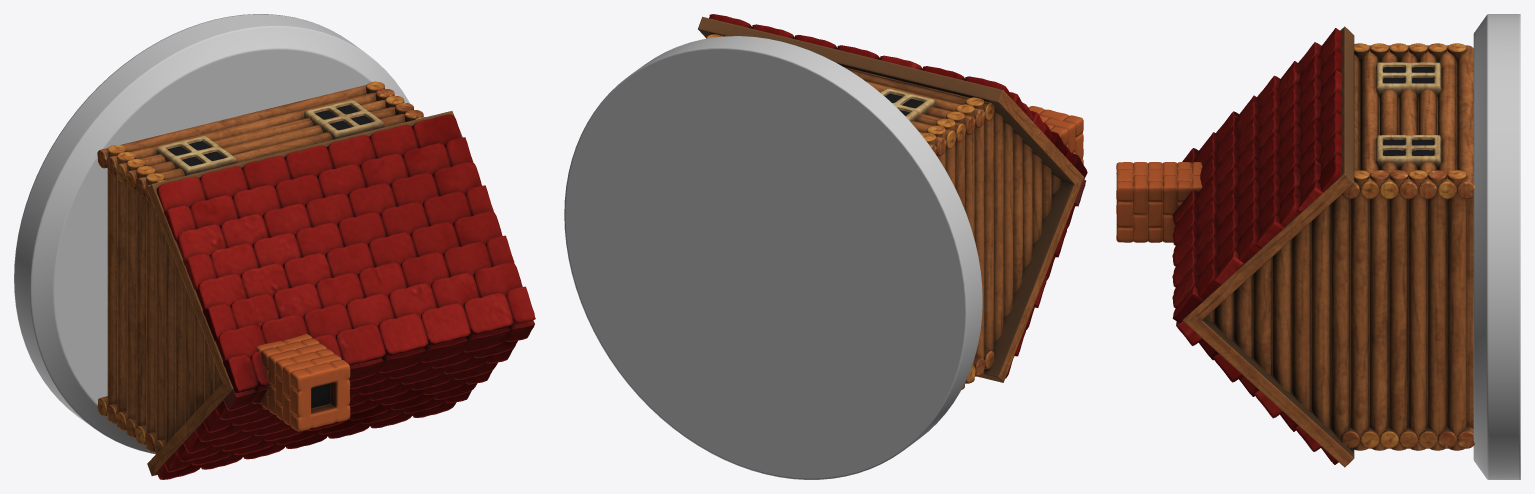
The model's file is 20958_Log_Cabin_v1_NEW.obj.
3 renders of one model, left to right at view 1: azimuth 30°, elevation 25°; view 2: azimuth 150°, elevation 25°; view 3: azimuth 270°, elevation 25°, orthographic.
Visible parts, largest first — view 1: 20958_Log_Cabin_v1; view 2: 20958_Log_Cabin_v1; view 3: 20958_Log_Cabin_v1.
Part boxes in pixels (x1=…): 20958_Log_Cabin_v1: x1=14, y1=14, x2=535, y2=479; 20958_Log_Cabin_v1: x1=564, y1=14, x2=1087, y2=479; 20958_Log_Cabin_v1: x1=1116, y1=14, x2=1520, y2=479.
Size of the model in its own units: 9.91 by 9.91 by 8.59.
